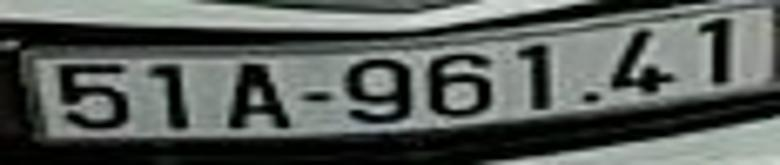-: (301, 90, 331, 103)
.: (584, 93, 598, 102)
1: (152, 64, 192, 130), (521, 43, 554, 110), (705, 19, 733, 89)
4: (611, 29, 674, 96)
5: (58, 64, 128, 127)
6: (427, 54, 493, 116)
9: (346, 62, 413, 123)
A: (223, 64, 291, 131)
